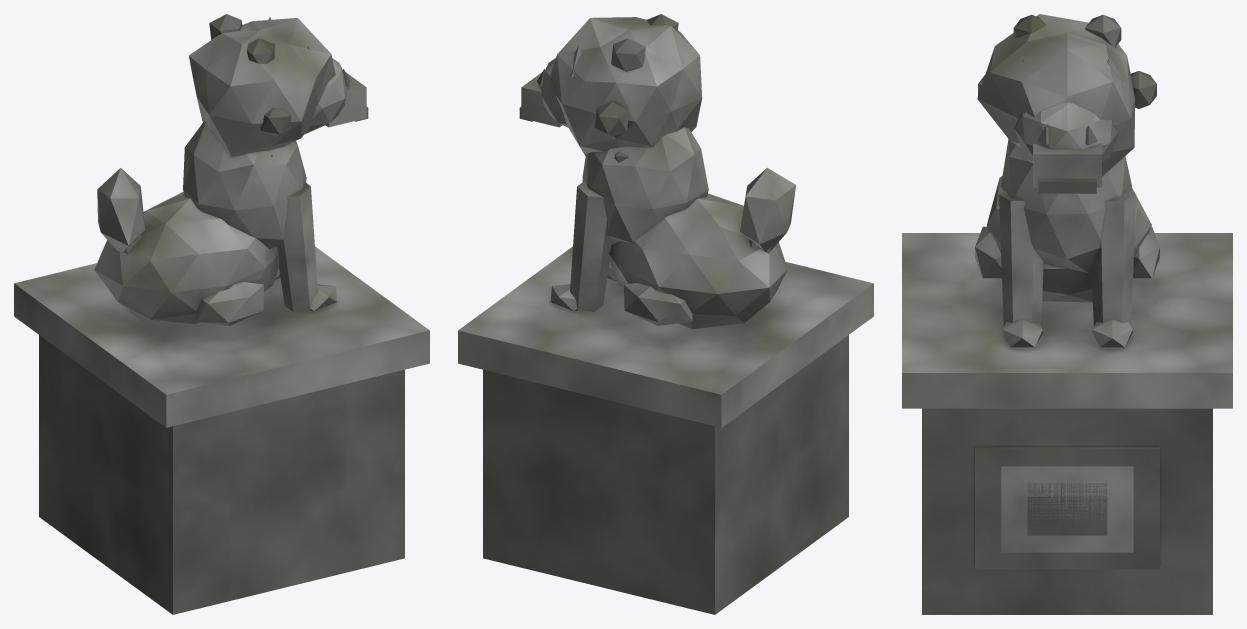
The model's file is komainu_tex.glb.
The picture shows the model from 3 angles, left to right: view 1: azimuth 30°, elevation 25°; view 2: azimuth 150°, elevation 25°; view 3: azimuth 270°, elevation 25°; orthographic projection. The views are drawn at different scales.
Visible parts, largest first — view 1: komainu; view 2: komainu; view 3: komainu.
Part boxes in pixels (x1=…): komainu: x1=14, y1=14, x2=429, y2=614; komainu: x1=458, y1=14, x2=873, y2=614; komainu: x1=902, y1=14, x2=1232, y2=614.
Bounding box in the file's own units: 1.25 × 2.29 × 1.25.
Materials: 2 (2 with a texture image).
